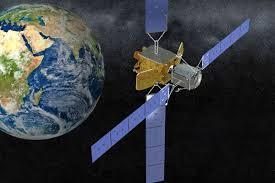antenna: (134, 69, 158, 92), (175, 40, 186, 63)
body: (131, 42, 204, 91)
solar: (90, 83, 171, 166), (200, 16, 252, 71), (144, 92, 167, 183), (142, 0, 170, 35)
